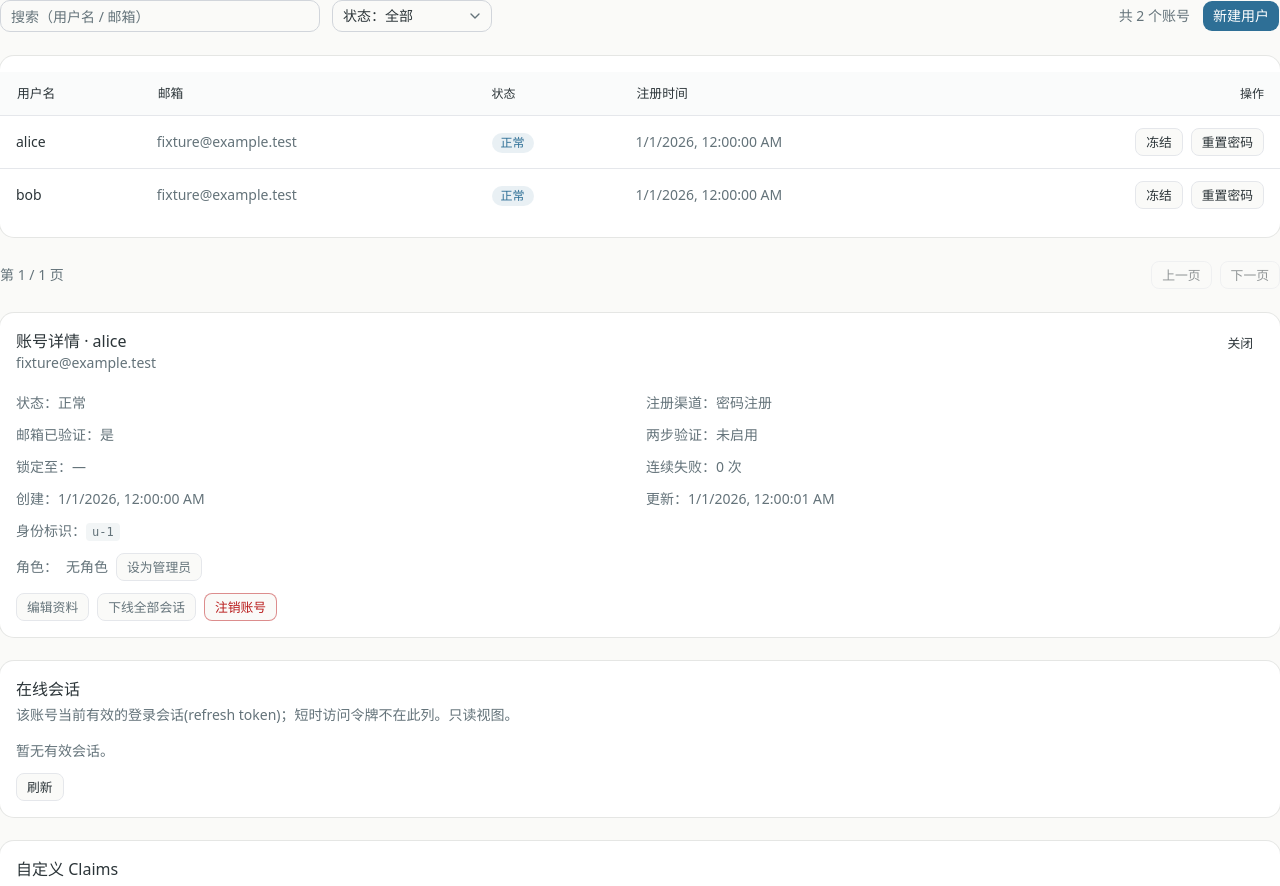
Test case: credential and draft ownership › drops a late reset result after the selected user changes
Expected: the text "账号详情 · alice" is shown, top-left (16, 330), bottom-right (126, 352)
Click the 1st button "重置密码" at (1227, 142), box top-left (1191, 128), bottom-right (1264, 156)
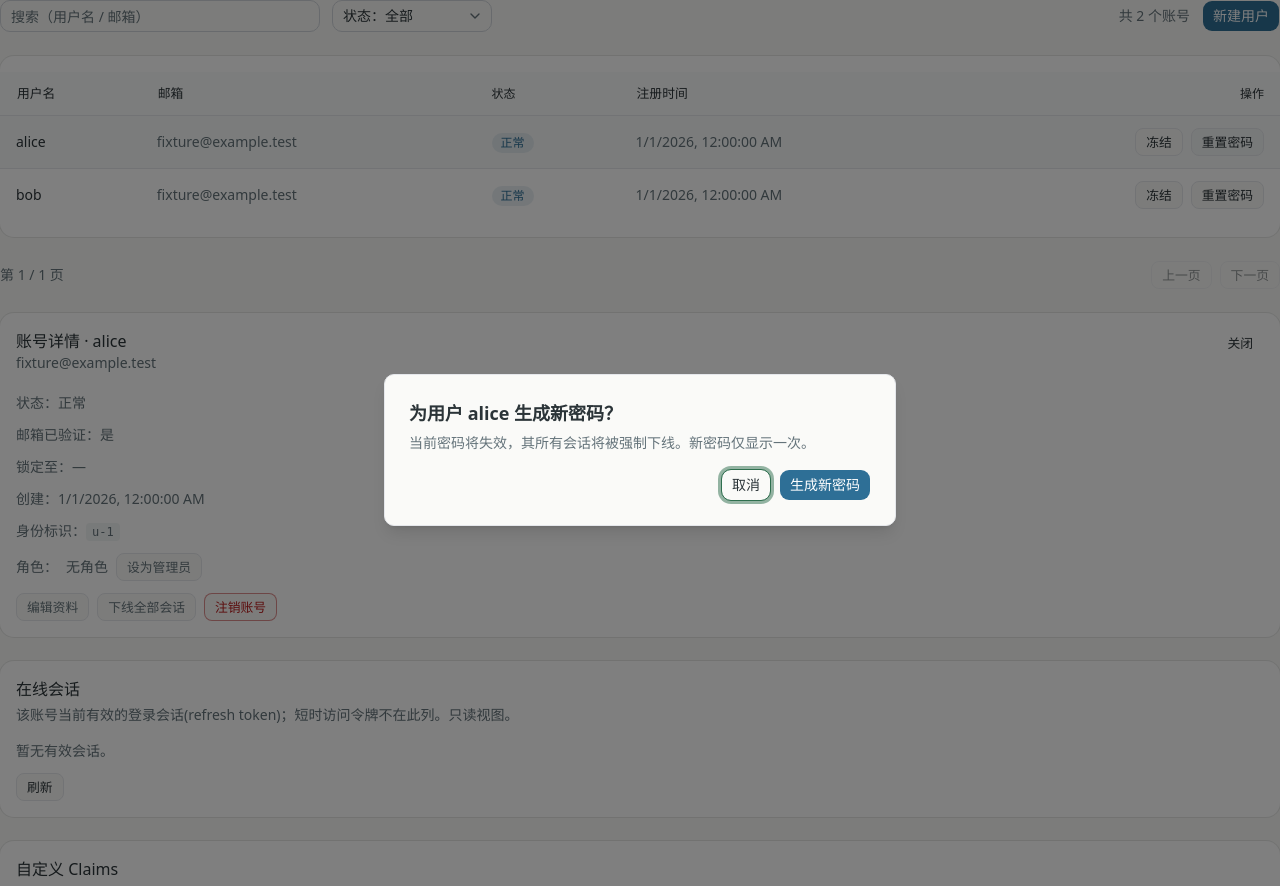
Click the button "生成新密码" at (825, 485), box top-left (779, 469), bottom-right (871, 501)
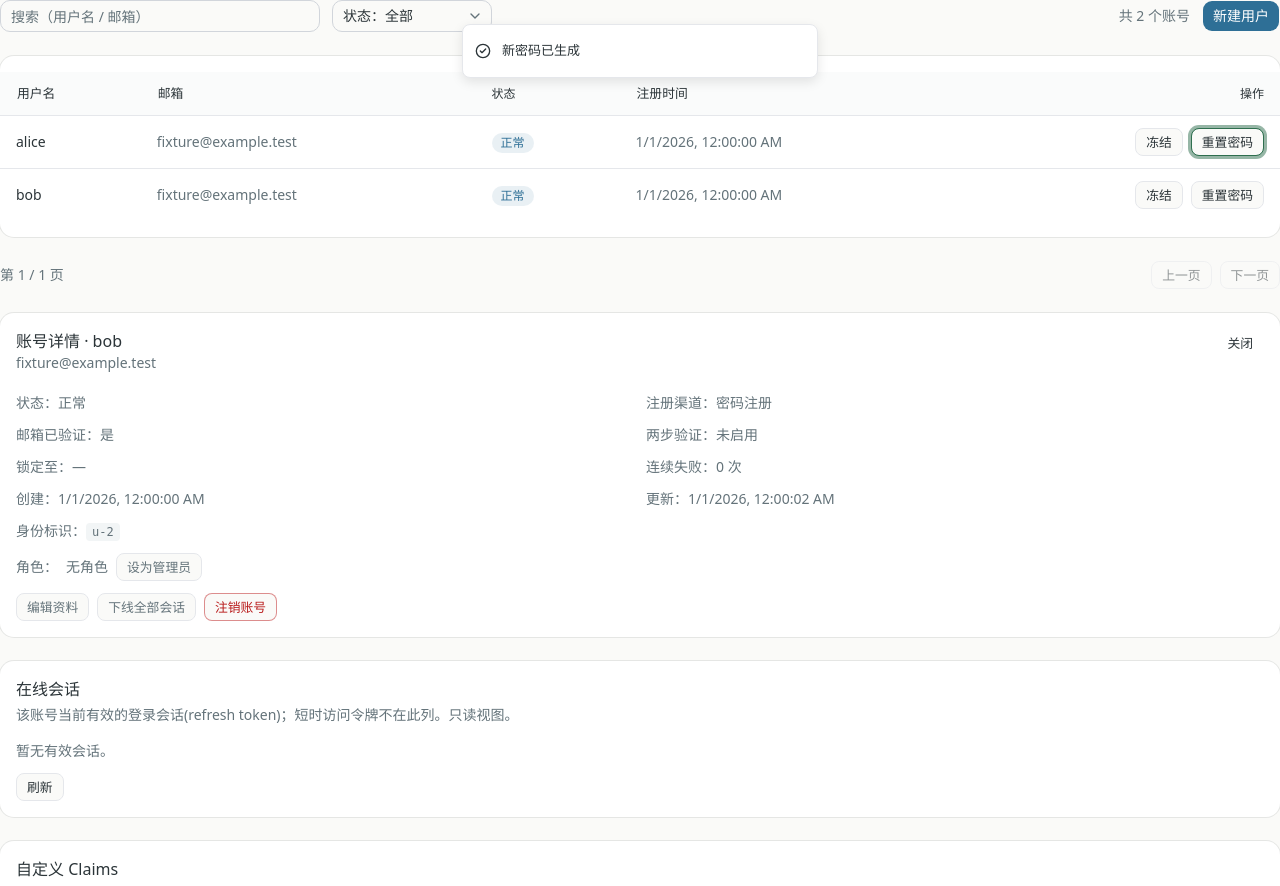
Result: the text "账号详情 · bob" is shown at top-left (16, 330), bottom-right (122, 352)
Result: the dialog is gone
